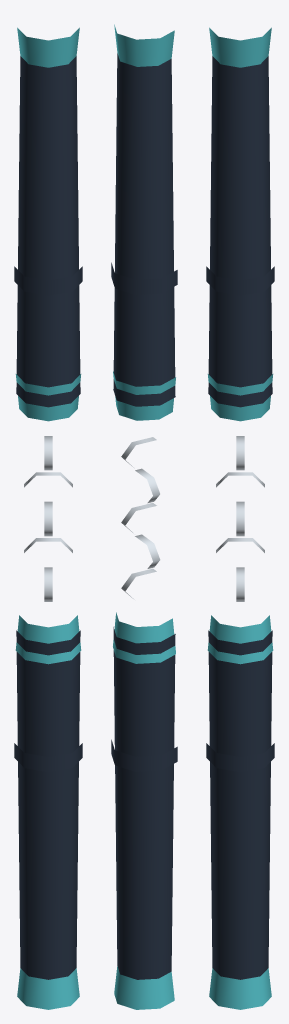
File: nunchucks.glb
3 views of the same model, side by side, from view 1: azimuth 90°, elevation 25°; view 2: azimuth 210°, elevation 25°; view 3: azimuth 270°, elevation 25° (orthographic).
Parts seen in each view (by area): view 1: chuck-held, chuck-free, chain; view 2: chuck-held, chuck-free, chain; view 3: chuck-held, chuck-free, chain.
Part boxes in pixels (x1,y1,x2,y2): chuck-held: (14, 615, 82, 1009); chuck-free: (14, 27, 82, 421); chain: (24, 436, 72, 601); chuck-held: (111, 612, 177, 1009); chuck-free: (111, 24, 177, 420); chain: (121, 437, 160, 599); chuck-held: (206, 615, 274, 1009); chuck-free: (206, 27, 274, 421); chain: (216, 436, 264, 601).
Bounding box in the file's own units: 0.049 × 0.767 × 0.049.
